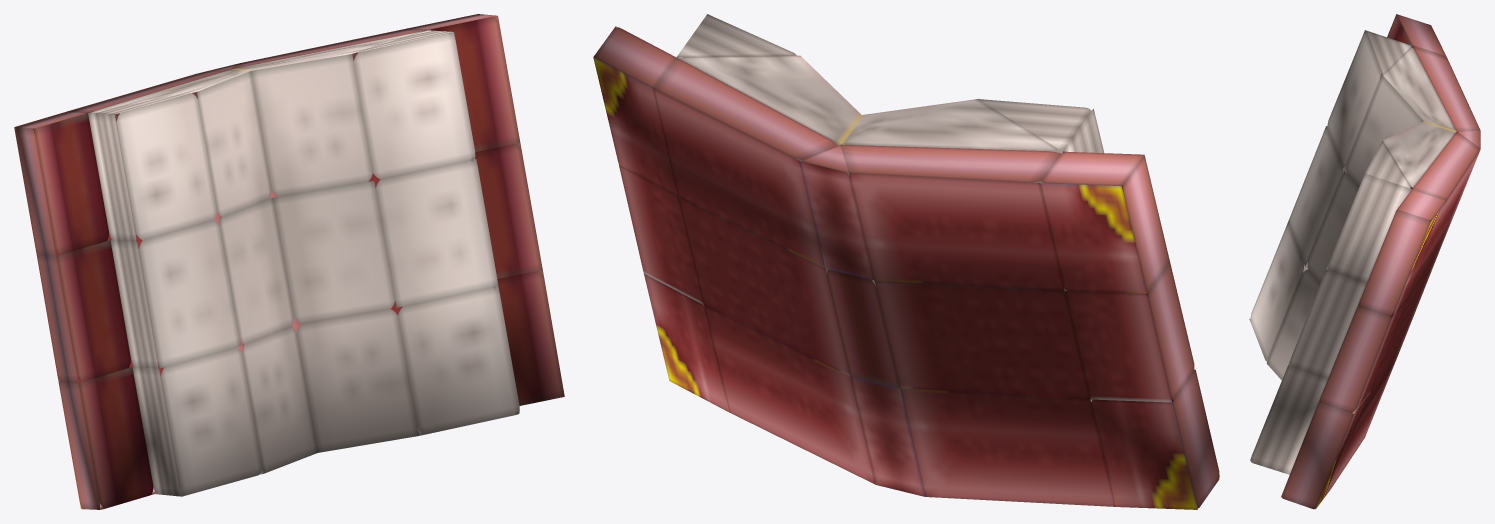
3 renders of one model, left to right at view 1: azimuth 30°, elevation 25°; view 2: azimuth 150°, elevation 25°; view 3: azimuth 270°, elevation 25°, orthographic. The views are drawn at different scales.
Parts seen in each view (by area): view 1: T1L2M002_6; view 2: T1L2M002_6; view 3: T1L2M002_6.
Boxes of the visible parts, box(x1,y1,x2,y2) form: T1L2M002_6: box(14, 14, 564, 509); T1L2M002_6: box(593, 14, 1219, 509); T1L2M002_6: box(1249, 14, 1480, 509).
Bounding box in the file's own units: 0.5479 × 0.4258 × 0.2734.
